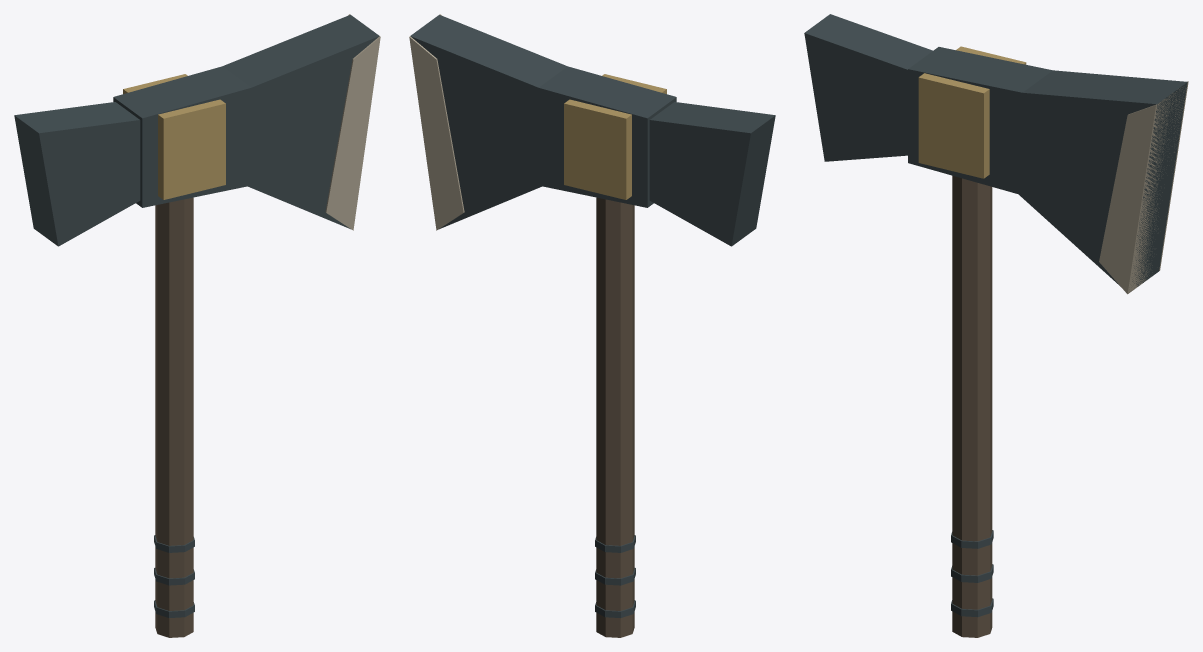
The model's file is Equip_AxeSteel.fbx.
3 views of the same model, side by side, from view 1: azimuth 30°, elevation 25°; view 2: azimuth 150°, elevation 25°; view 3: azimuth 330°, elevation 25° (orthographic). The views are drawn at different scales.
Visible parts, largest first — view 1: Equip_AxeSteel; view 2: Equip_AxeSteel; view 3: Equip_AxeSteel.
Part boxes in pixels (left/top/right/bottom): Equip_AxeSteel: left=14, top=14, right=380, bottom=637; Equip_AxeSteel: left=409, top=14, right=775, bottom=637; Equip_AxeSteel: left=804, top=14, right=1188, bottom=637.
Size of the model in its own units: 0.87 by 1.37 by 0.18.
